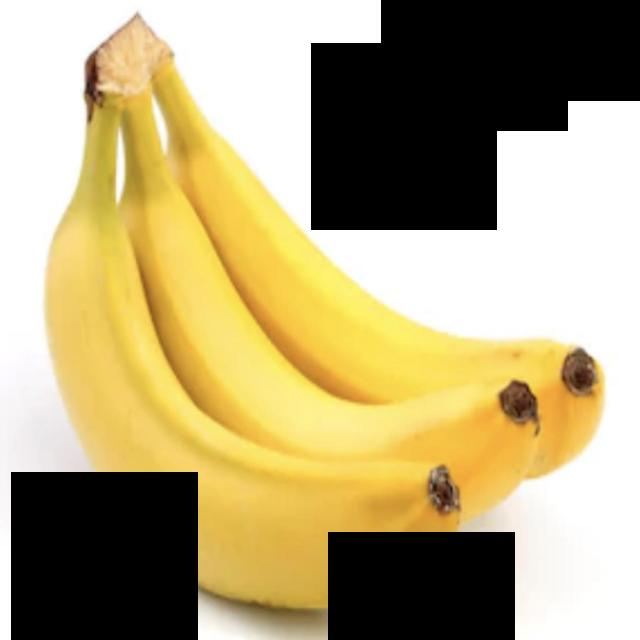banana: (1, 34, 500, 639), (84, 61, 600, 574), (146, 68, 626, 484)
